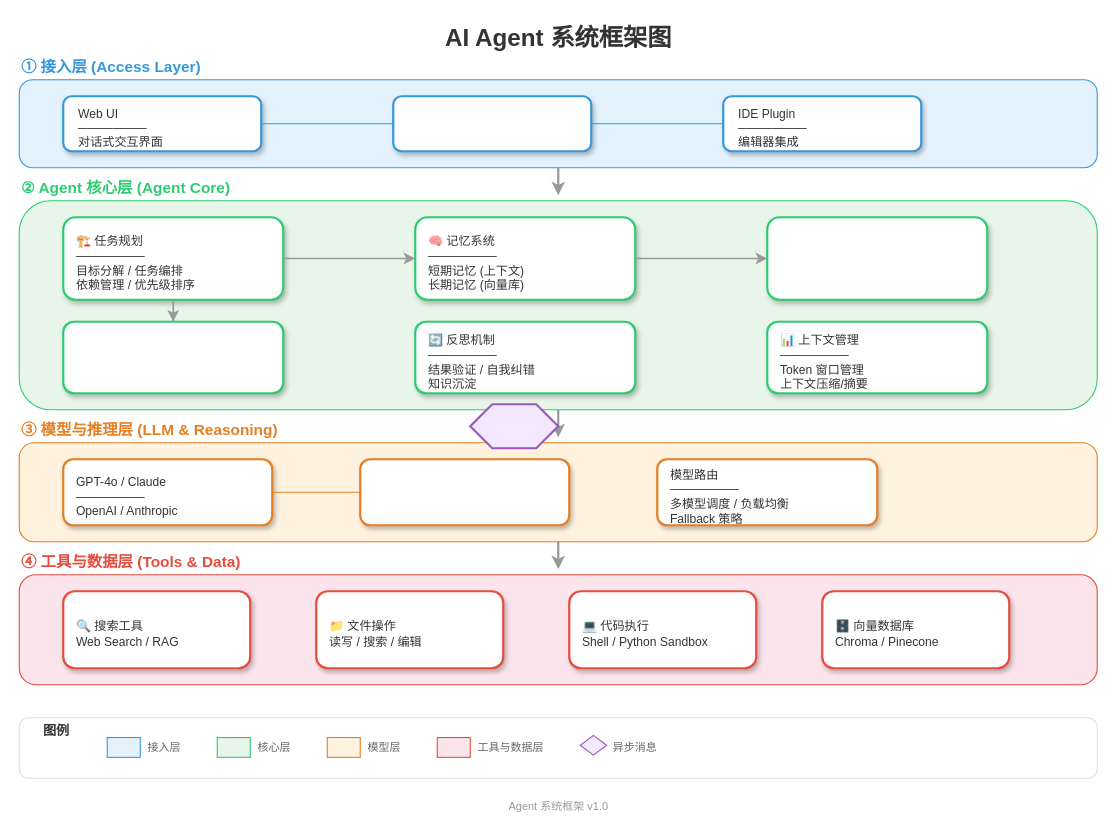
Some shapes in this 1117 by 835 pixel diagram are drawn without their labels. The shapes that lost their labels are listed below. From the top down, each one's centre as x and y in pixels, then its label:
At (492,125): "CLI / API ──────── 命令行 / 接口调用".
At (877,259): "🔧 工具调用 ──────── Function Calling API / MCP 协议".
At (173,359): "📋 状态管理 ──────── 任务状态跟踪 / 回退 并发控制".
At (514,426): "消息队列 (MQ)".
At (465,493): "DeepSeek / Qwen ──────── 开源模型 / 本地部署".
